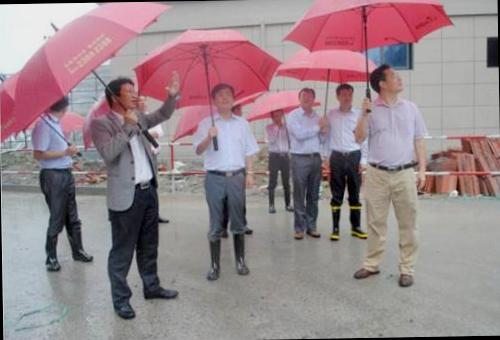no_helmet: (99, 74, 138, 114), (367, 63, 407, 99), (207, 79, 235, 115), (46, 90, 72, 119), (334, 82, 354, 108), (296, 85, 316, 110), (134, 88, 152, 115), (270, 104, 285, 128)
